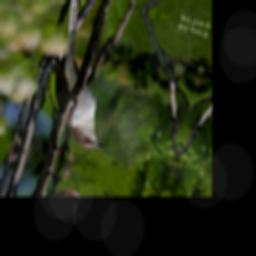Cuckoo: (33, 0, 144, 156)
